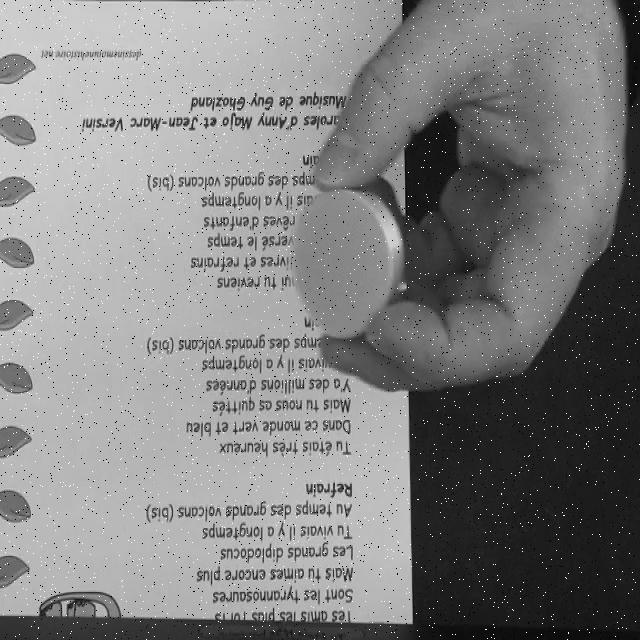round: (292, 187, 404, 341)
